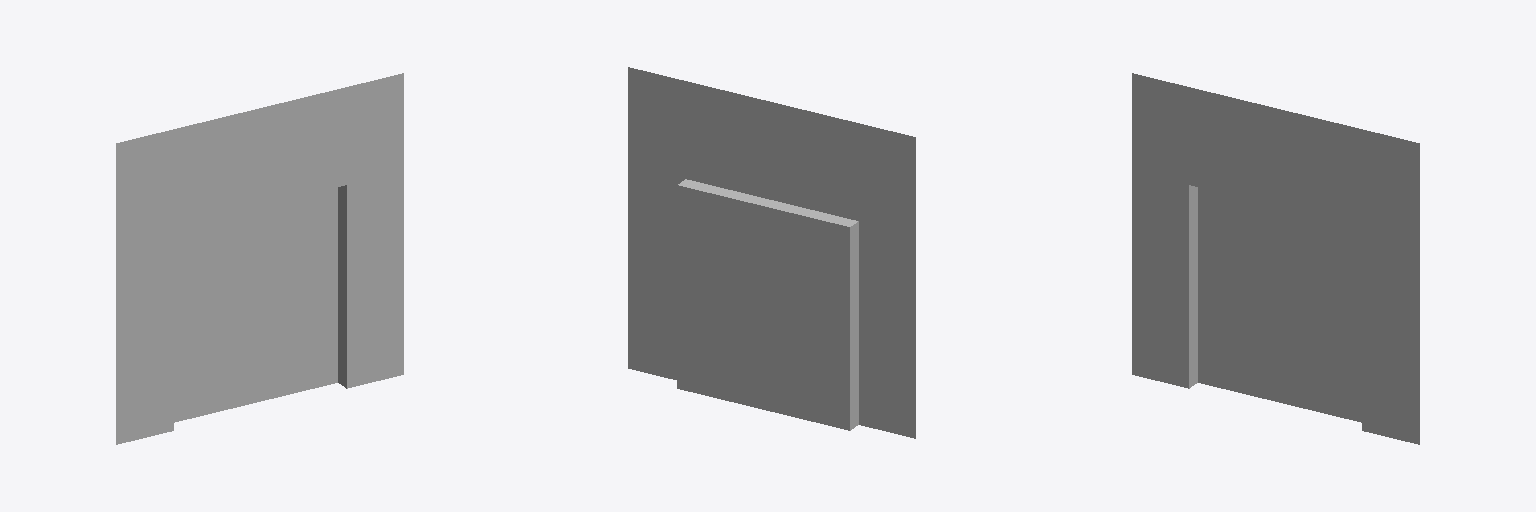
File: wall_doorB.obj
3 views of the same model, side by side, from view 1: azimuth 30°, elevation 25°; view 2: azimuth 150°, elevation 25°; view 3: azimuth 330°, elevation 25° (orthographic).
Visible parts, largest first — view 1: wall_doorB; view 2: wall_doorB; view 3: wall_doorB.
Boxes of the visible parts, box(x1,y1,x2,y2) form: wall_doorB: box(116, 73, 403, 444); wall_doorB: box(628, 67, 915, 438); wall_doorB: box(1132, 73, 1419, 444).
Bounding box in the file's own units: 0.4 × 0.4 × 0.02.